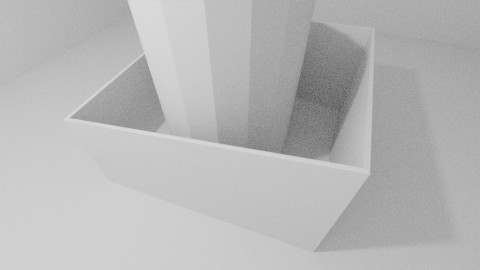cheminee: (128, 1, 316, 193)
eaf: (69, 118, 364, 248)
